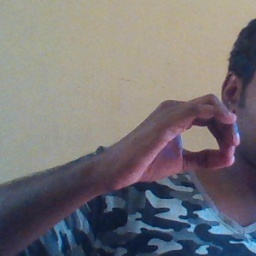O: (118, 92, 242, 187)
